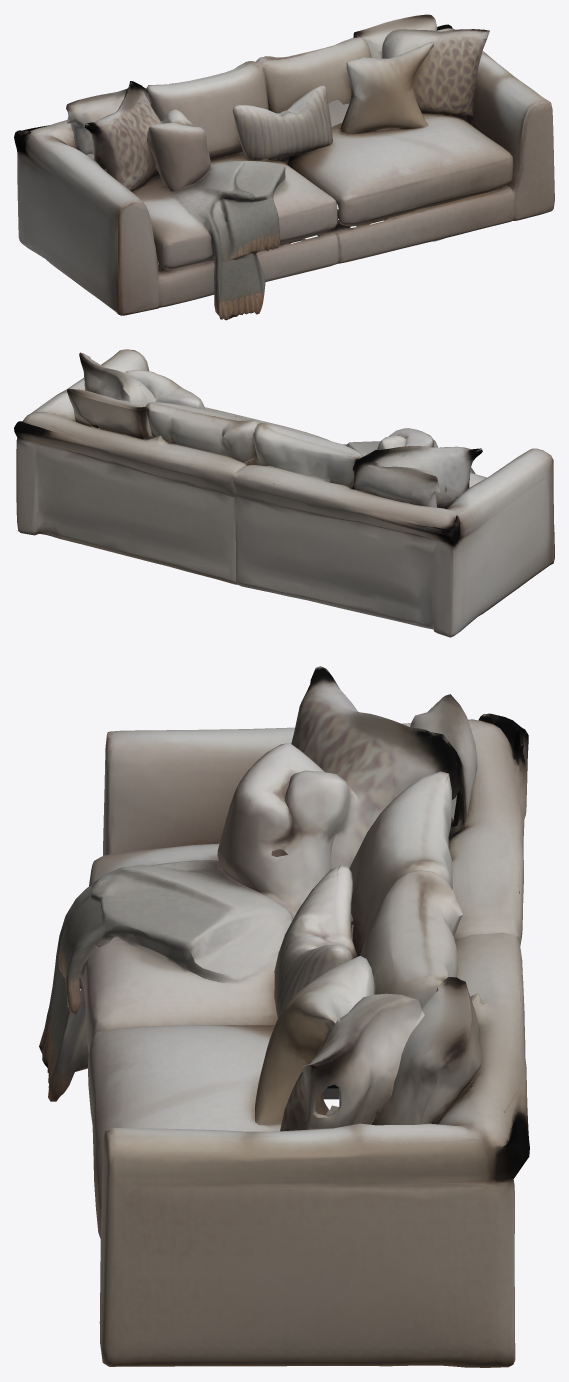
Rendered from sofa cojines.glb.
3 renders of one model, top to bottom at view 1: azimuth 30°, elevation 25°; view 2: azimuth 150°, elevation 25°; view 3: azimuth 270°, elevation 25°, orthographic. The views are drawn at different scales.
Visible parts, largest first — view 1: world_0; view 2: world_0; view 3: world_0.
Part boxes in pixels (left/top/right/bottom): world_0: left=14, top=14, right=554, bottom=320; world_0: left=14, top=349, right=554, bottom=637; world_0: left=39, top=666, right=529, bottom=1367.
Size of the model in its own units: 0.9945 by 0.3632 by 0.4787.
Materials: 1 (1 with a texture image).
